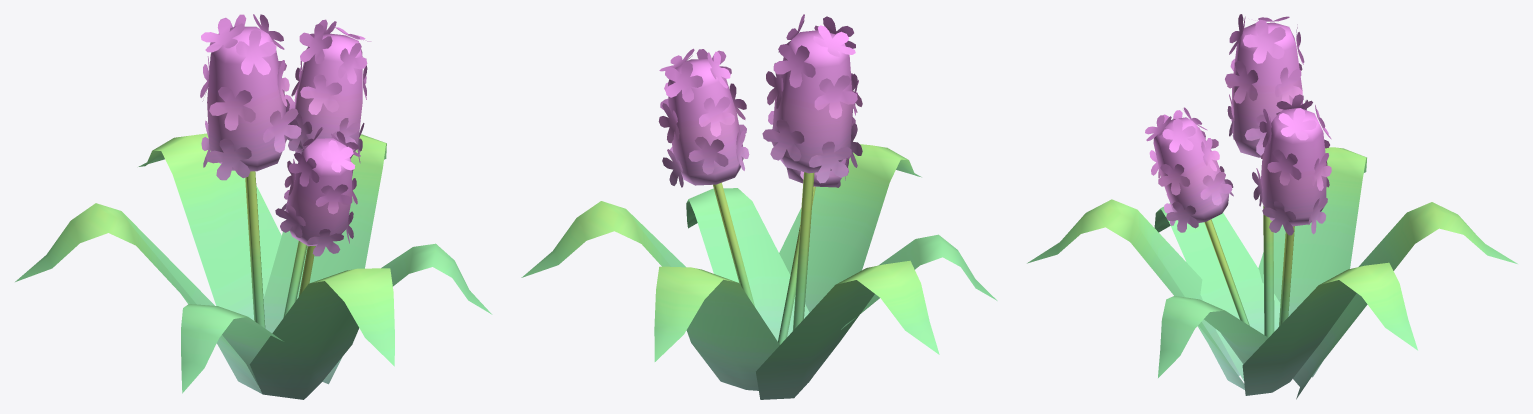
The model's file is Flower.026_Base_Material_0.fbx.
3 renders of one model, left to right at view 1: azimuth 30°, elevation 25°; view 2: azimuth 150°, elevation 25°; view 3: azimuth 270°, elevation 25°, orthographic. The views are drawn at different scales.
Visible parts, largest first — view 1: Flower.026_Base_Material_0_export; view 2: Flower.026_Base_Material_0_export; view 3: Flower.026_Base_Material_0_export.
Part boxes in pixels (x1,y1,x2,y2): Flower.026_Base_Material_0_export: (15, 14, 492, 399); Flower.026_Base_Material_0_export: (521, 14, 997, 399); Flower.026_Base_Material_0_export: (1027, 14, 1517, 399).
Size of the model in its own units: 2.99 by 2.71 by 3.46.
